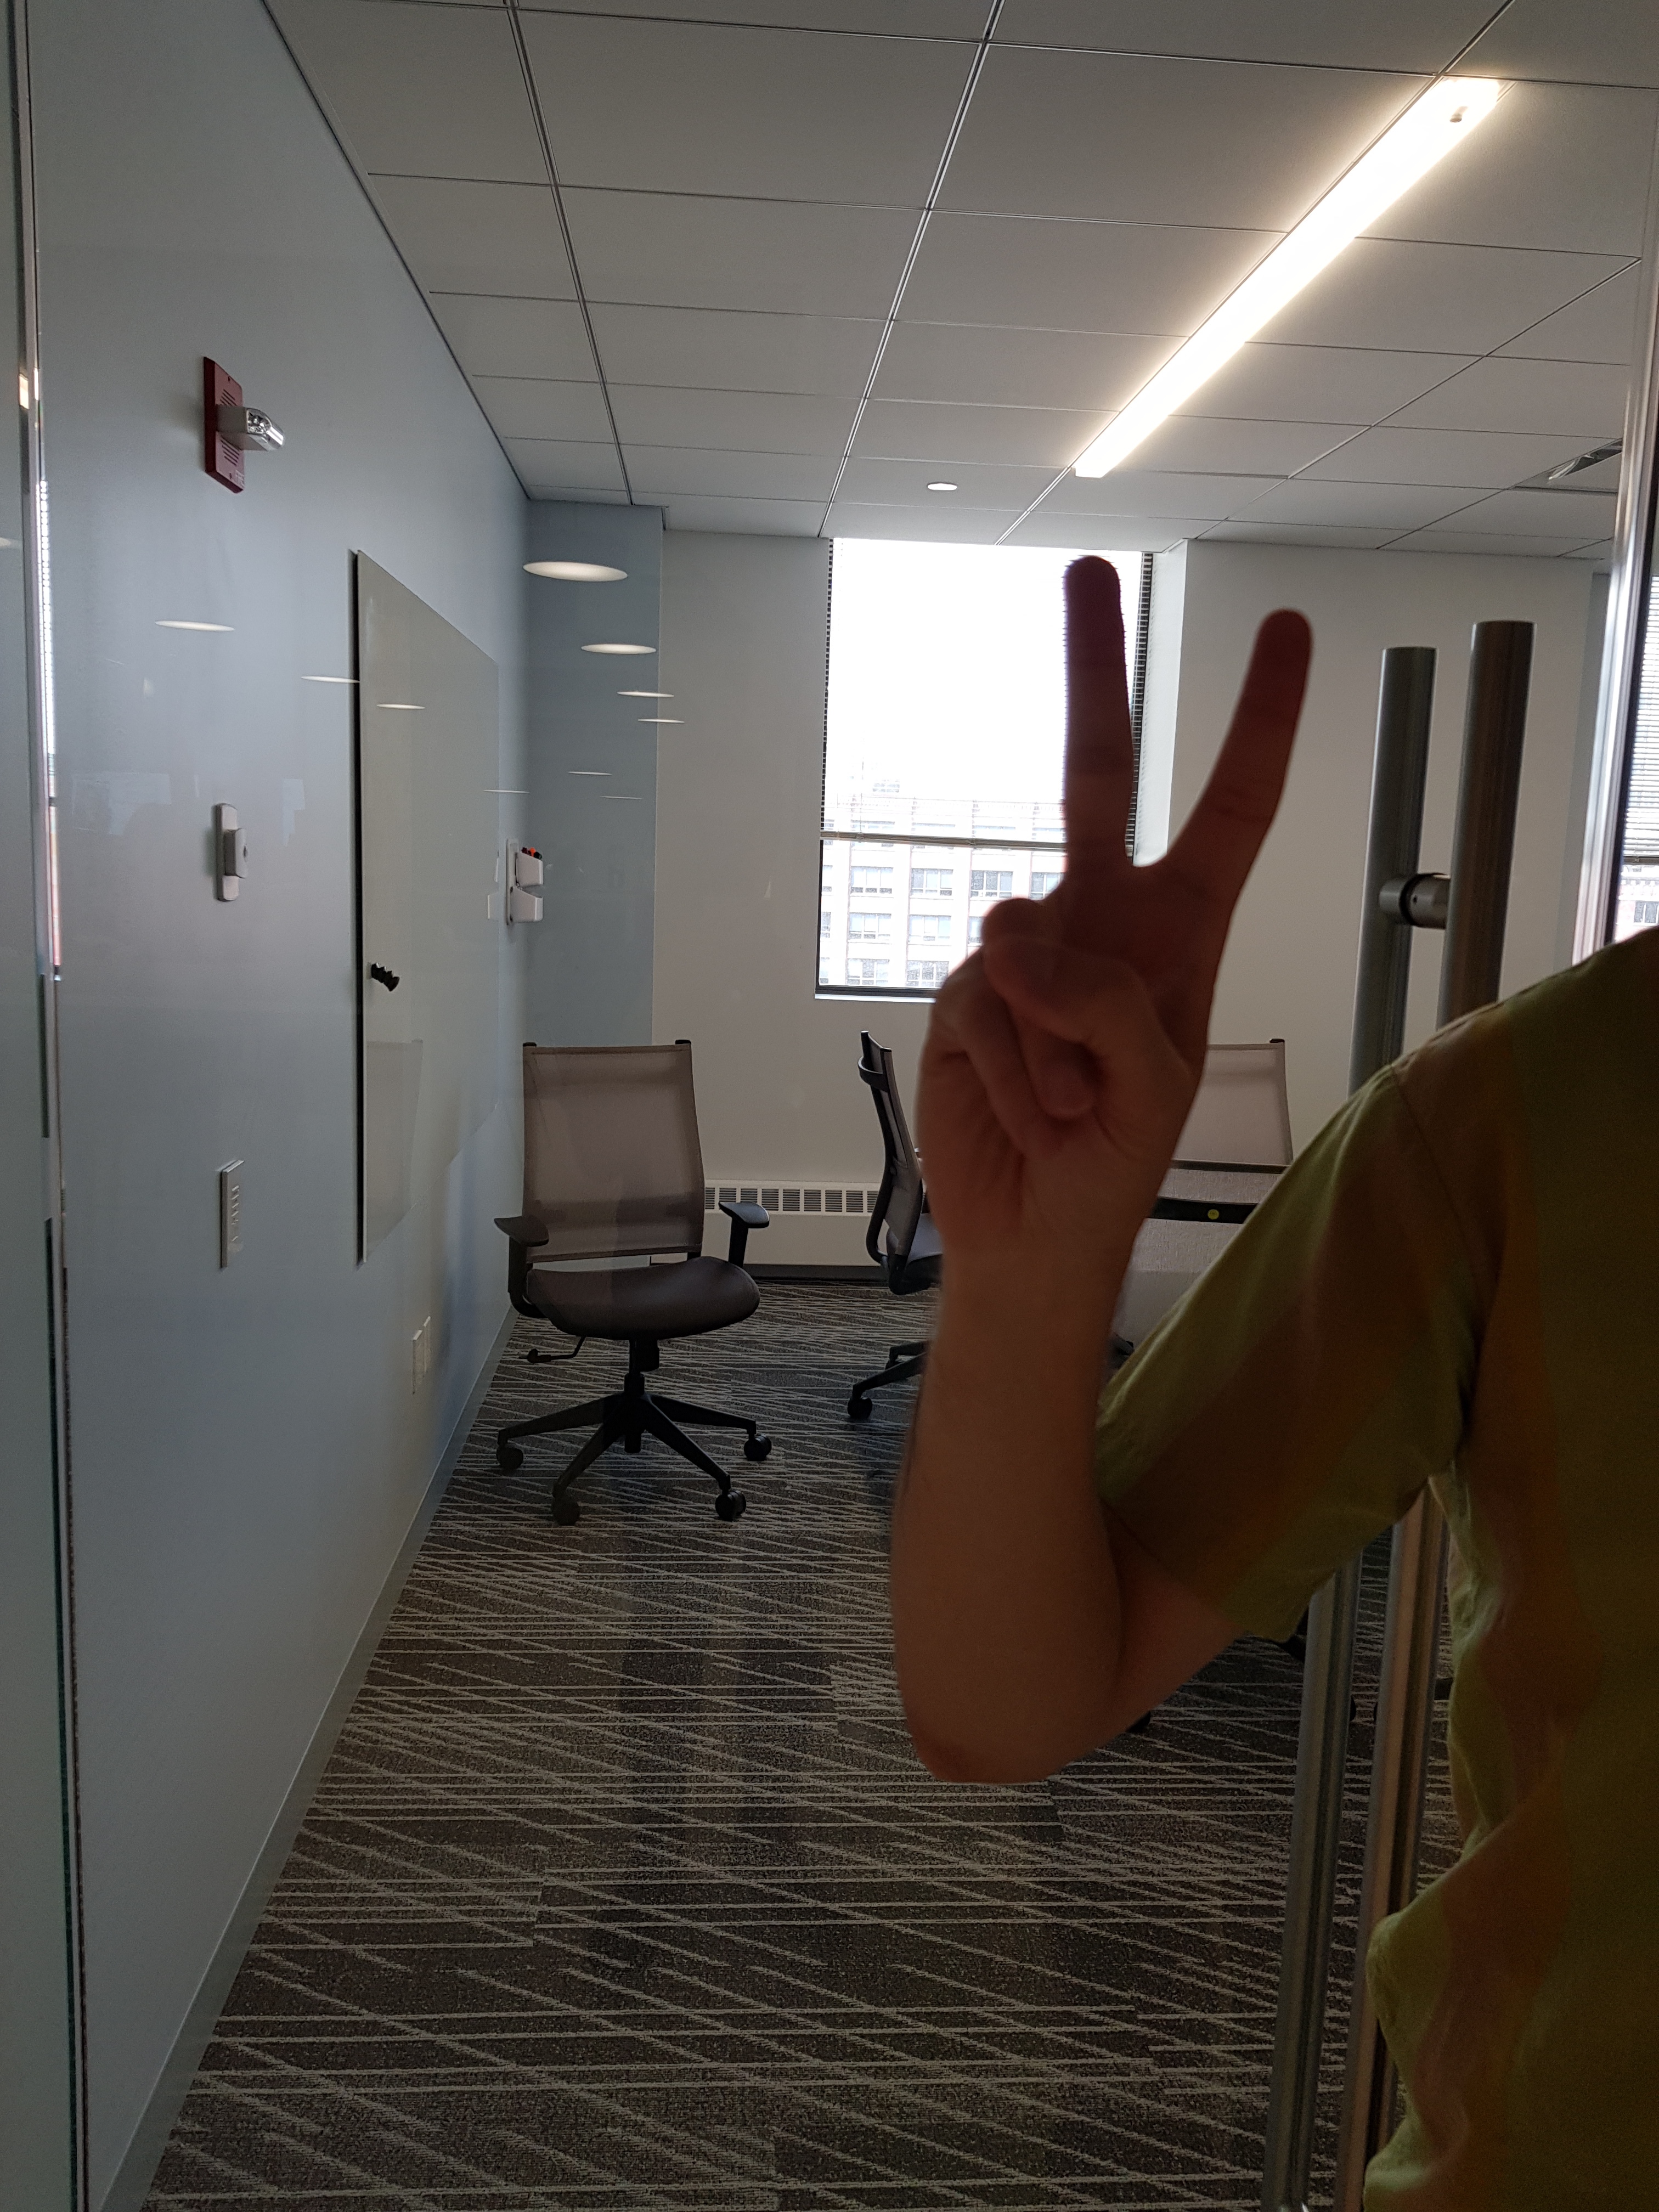v: (889, 545, 1340, 1329)
